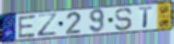2: (65, 11, 84, 36)
9: (88, 8, 105, 35)
E: (17, 14, 38, 40)
S: (114, 7, 135, 32)
T: (138, 6, 154, 29)
Z: (36, 12, 60, 38)
